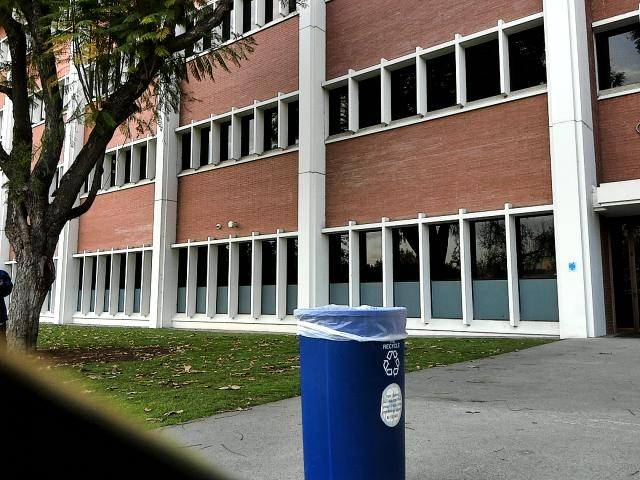trashcan_open: (292, 299, 418, 480)
